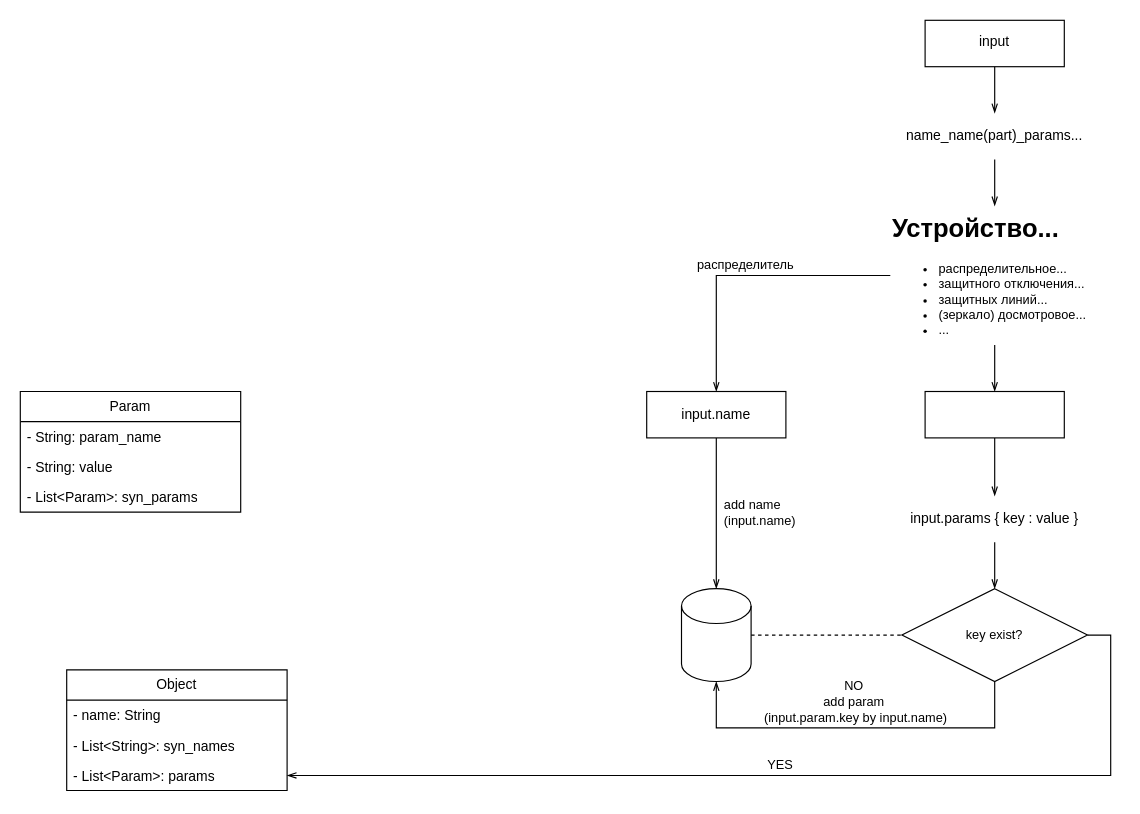
Image size: 1140x814. Some labels were removed from this diagram. Each missing label, with the box of its shape:
input.params: (924, 390, 1064, 438)
objects: (680, 588, 751, 682)
